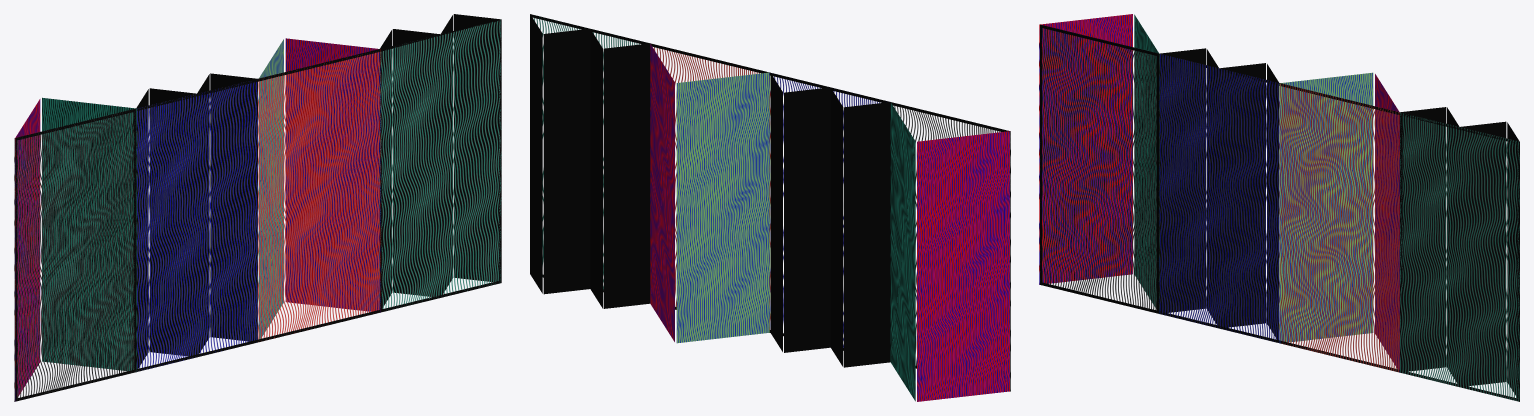
The model's file is windowMixed.glb.
3 views of the same model, side by side, from view 1: azimuth 30°, elevation 25°; view 2: azimuth 150°, elevation 25°; view 3: azimuth 330°, elevation 25° (orthographic).
Visible parts, largest first — view 1: fins 11 15 26 A.004, fins 11 15 26 A.002, larger panels.001, larger panels.003, fins 11 15 26 A.007, fins 11 15 26 A.005, frame; view 2: fins 11 15 26 A.002, fins 11 15 26 A.004, larger panels.001, larger panels.003, frame, fins 11 15 26 A.007, fins 11 15 26 A.005; view 3: fins 11 15 26 A.004, fins 11 15 26 A.002, larger panels.001, larger panels.003, fins 11 15 26 A.007, fins 11 15 26 A.005, frame.
Boxes of the visible parts, x1=… form: fins 11 15 26 A.004: x1=136, y1=73, x2=257, y2=371; fins 11 15 26 A.002: x1=379, y1=14, x2=501, y2=308; larger panels.001: x1=258, y1=38, x2=380, y2=338; larger panels.003: x1=15, y1=97, x2=136, y2=401; fins 11 15 26 A.007: x1=258, y1=52, x2=379, y2=340; fins 11 15 26 A.005: x1=14, y1=109, x2=135, y2=401; frame: x1=14, y1=19, x2=501, y2=401; fins 11 15 26 A.002: x1=530, y1=14, x2=650, y2=308; fins 11 15 26 A.004: x1=770, y1=73, x2=890, y2=367; larger panels.001: x1=650, y1=44, x2=770, y2=343; larger panels.003: x1=890, y1=102, x2=1009, y2=401; frame: x1=530, y1=14, x2=1010, y2=391; fins 11 15 26 A.007: x1=654, y1=46, x2=770, y2=329; fins 11 15 26 A.005: x1=894, y1=106, x2=1010, y2=391; fins 11 15 26 A.004: x1=1159, y1=48, x2=1279, y2=342; fins 11 15 26 A.002: x1=1400, y1=107, x2=1519, y2=401; larger panels.001: x1=1279, y1=72, x2=1399, y2=372; larger panels.003: x1=1039, y1=14, x2=1159, y2=313; fins 11 15 26 A.007: x1=1279, y1=83, x2=1399, y2=372; fins 11 15 26 A.005: x1=1039, y1=28, x2=1159, y2=309; frame: x1=1040, y1=24, x2=1519, y2=401.
Bounding box in the file's own units: 172 × 89 × 21.21.
15 materials, 12 textured.
